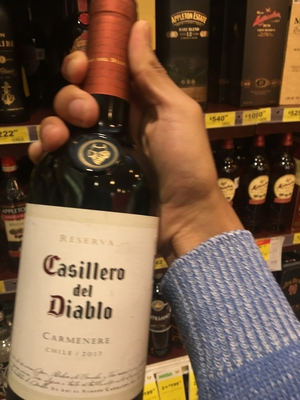casillero del diablo carmenere: (1, 16, 195, 400)
